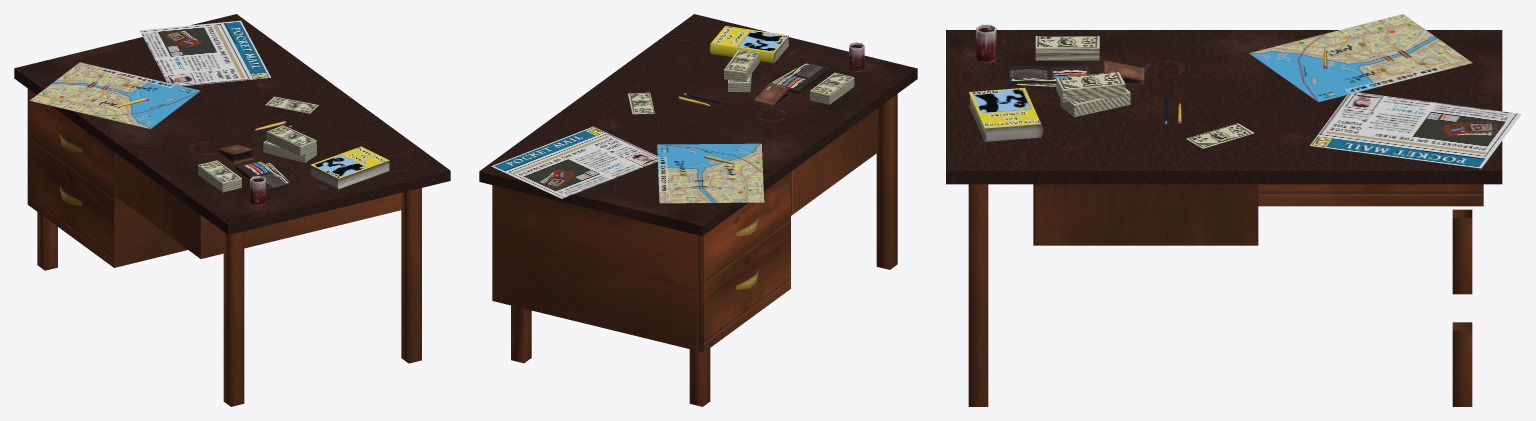
Rendered from Table.FBX.
The picture shows the model from 3 angles, left to right: view 1: azimuth 30°, elevation 25°; view 2: azimuth 150°, elevation 25°; view 3: azimuth 270°, elevation 25°; orthographic projection. The views are drawn at different scales.
Visible parts, largest first — view 1: Table; view 2: Table; view 3: Table.
Part boxes in pixels (bbox=[...]): Table: bbox=[14, 14, 450, 406]; Table: bbox=[479, 14, 917, 406]; Table: bbox=[946, 14, 1521, 406].
Size of the model in its own units: 135 by 113 by 211.
